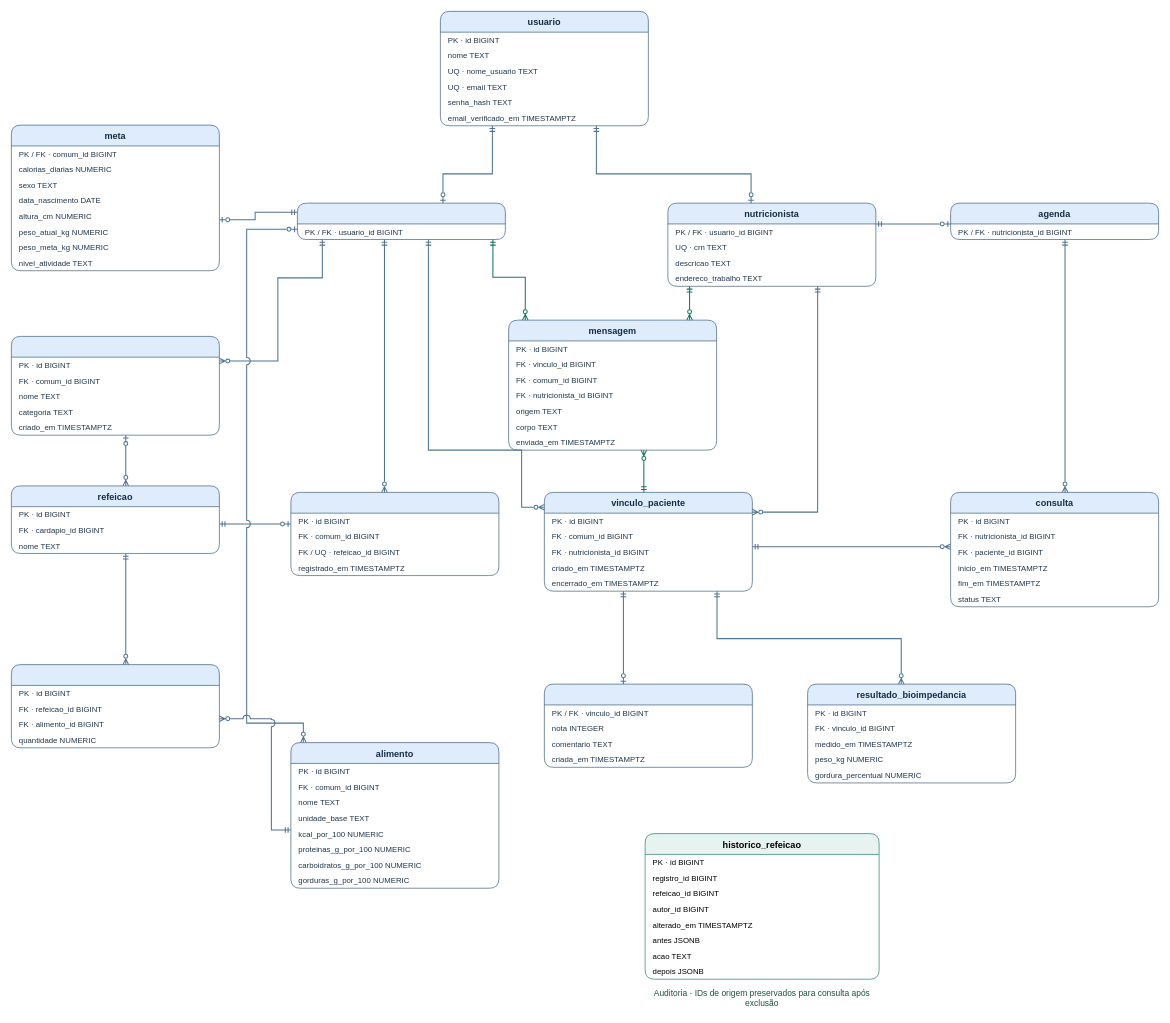
The diagram is 1170 pixels wide and 1023 high, and some of its shapes have lost their labels. Here are the shapes that lost their labels. From the top down, the box of each, then its label:
(297, 202, 505, 240): comum
(11, 336, 219, 435): cardapio
(290, 492, 499, 576): registro
(11, 664, 219, 748): alimento_consumido
(544, 683, 752, 767): avaliacao
